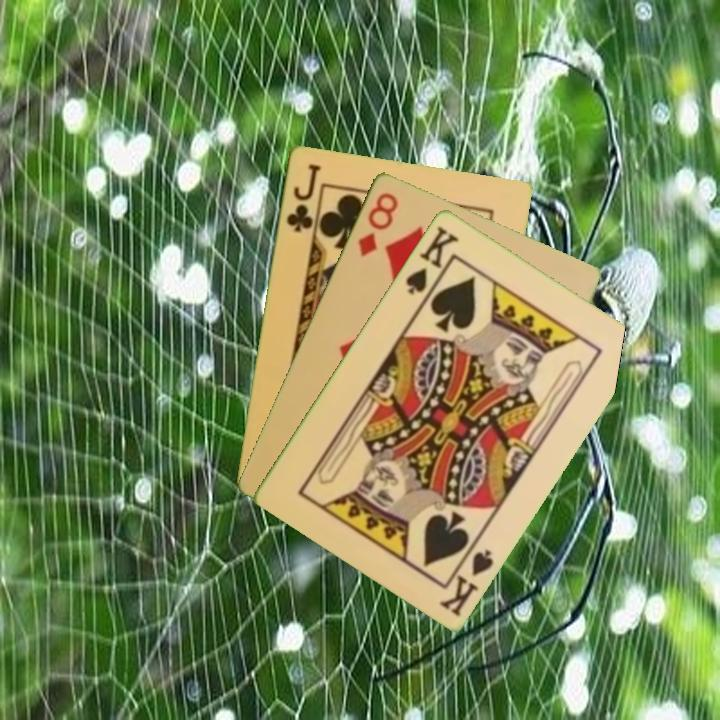8d: (354, 188, 401, 259)
Jc: (282, 160, 324, 235)
Ks: (435, 535, 496, 619), (402, 221, 462, 297)
